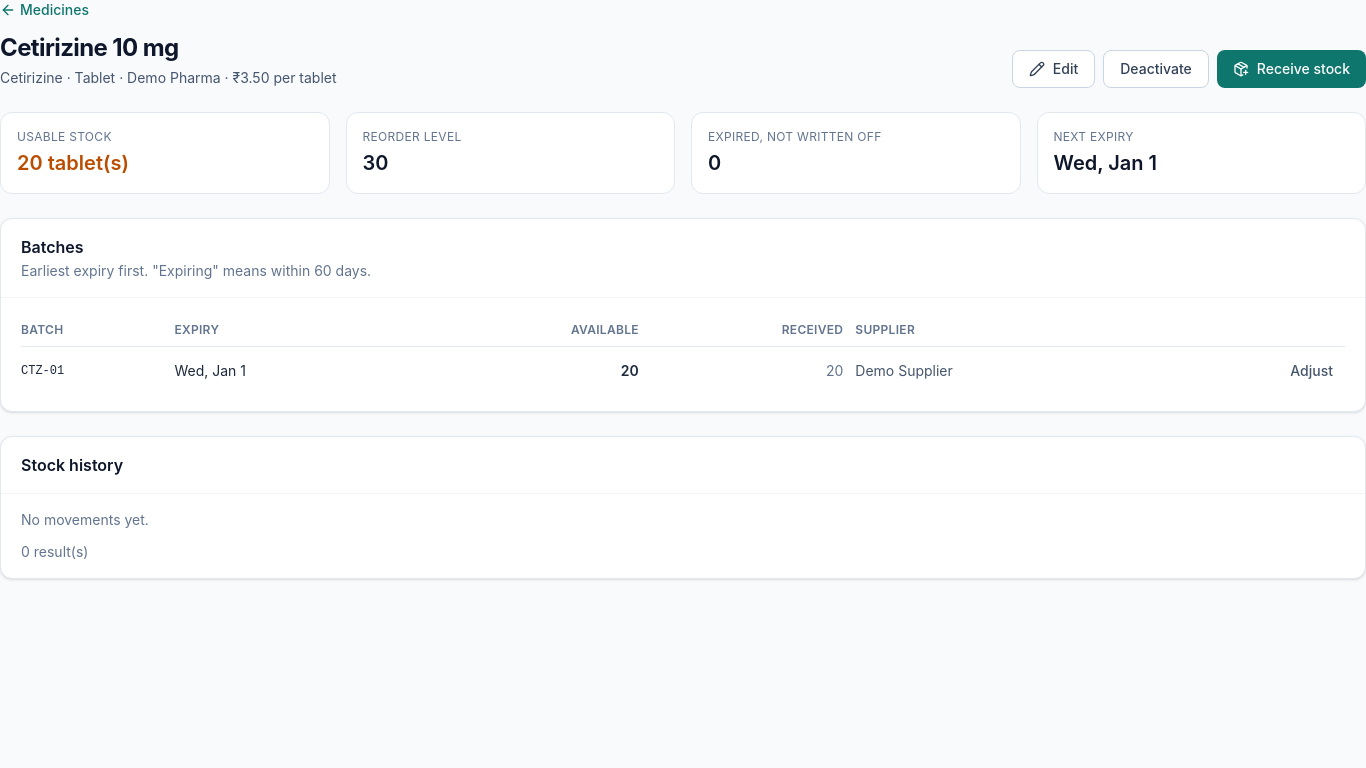
Scenario: MedicineDetailPage › shows the server stock error on the quantity field
The width and height of the screenshot is (1366, 768).
Click the button with aria-label "Adjust batch CTZ-01".
click(1312, 371)  # box [1278, 355, 1345, 387]
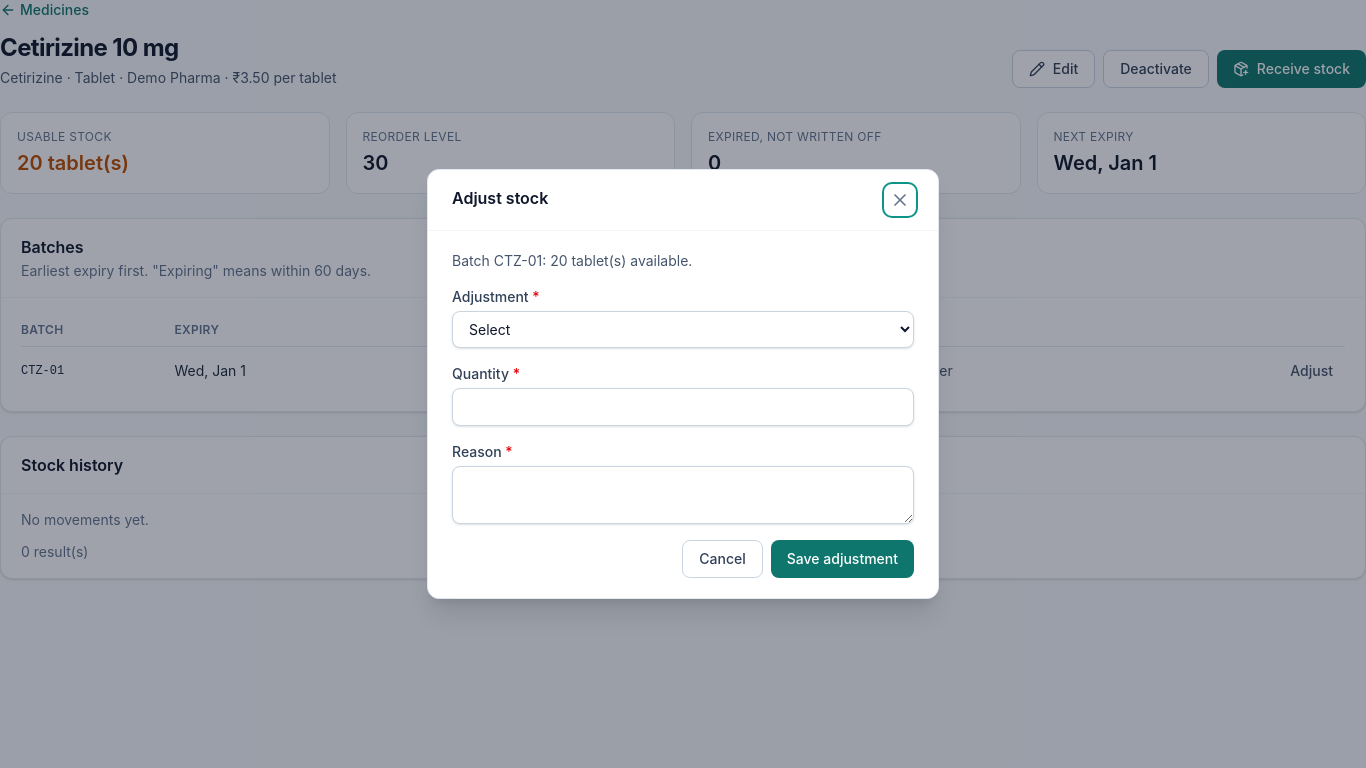
Select "Remove (damaged, lost, count correction)" in the dropdown labelled "Adjustment *" at (683, 330), box [452, 311, 914, 348]
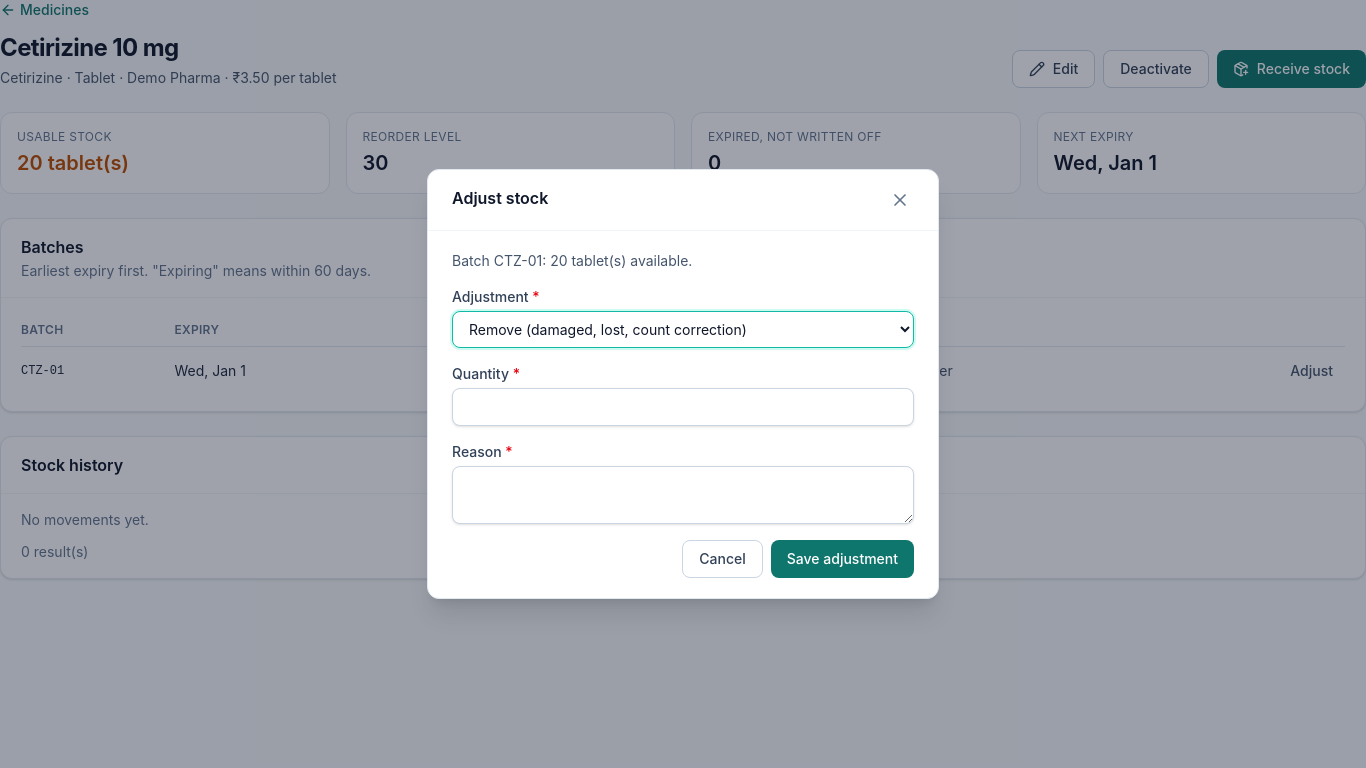
Type "25" into the number field labelled "Quantity *".
click(683, 407); type("25")  # box [452, 388, 914, 426]
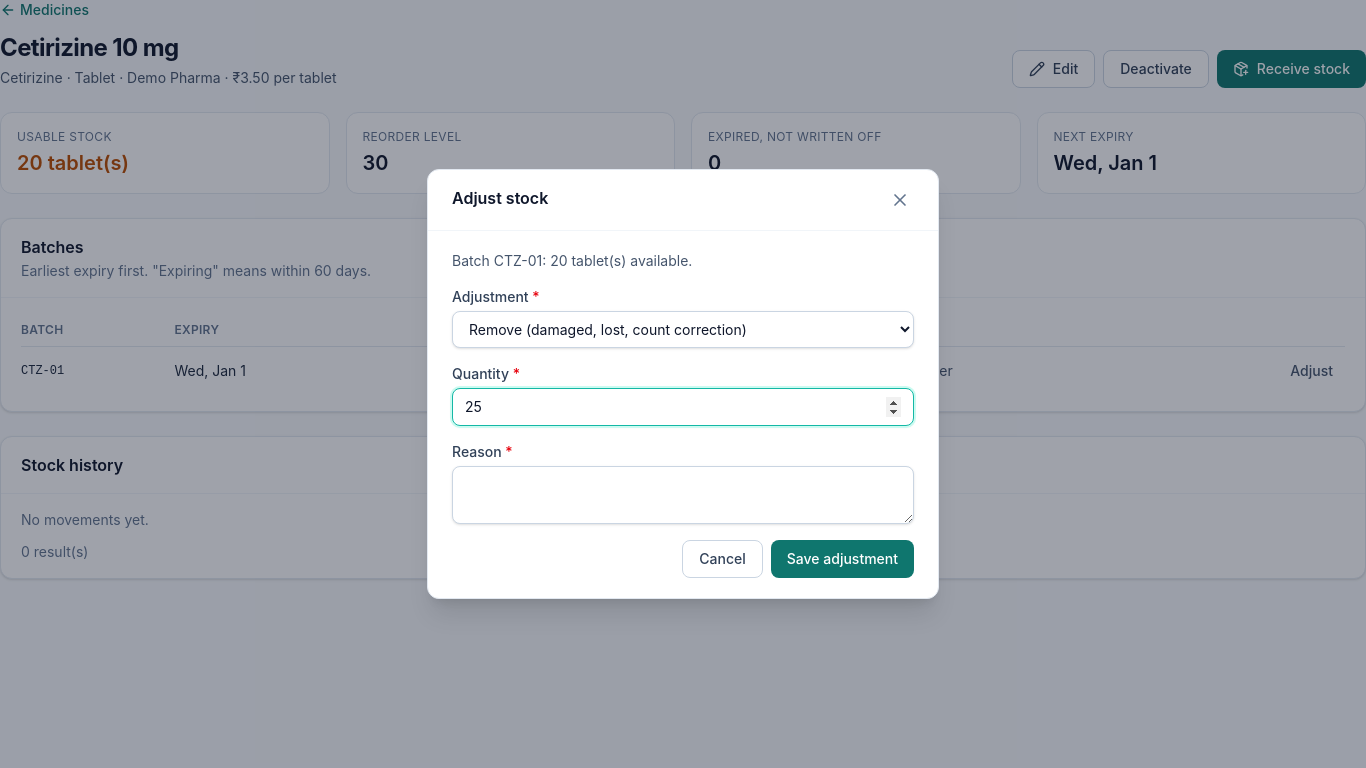
Type "Damaged" into the text box labelled "Reason *".
click(683, 495); type("Damaged")  # box [452, 466, 914, 524]
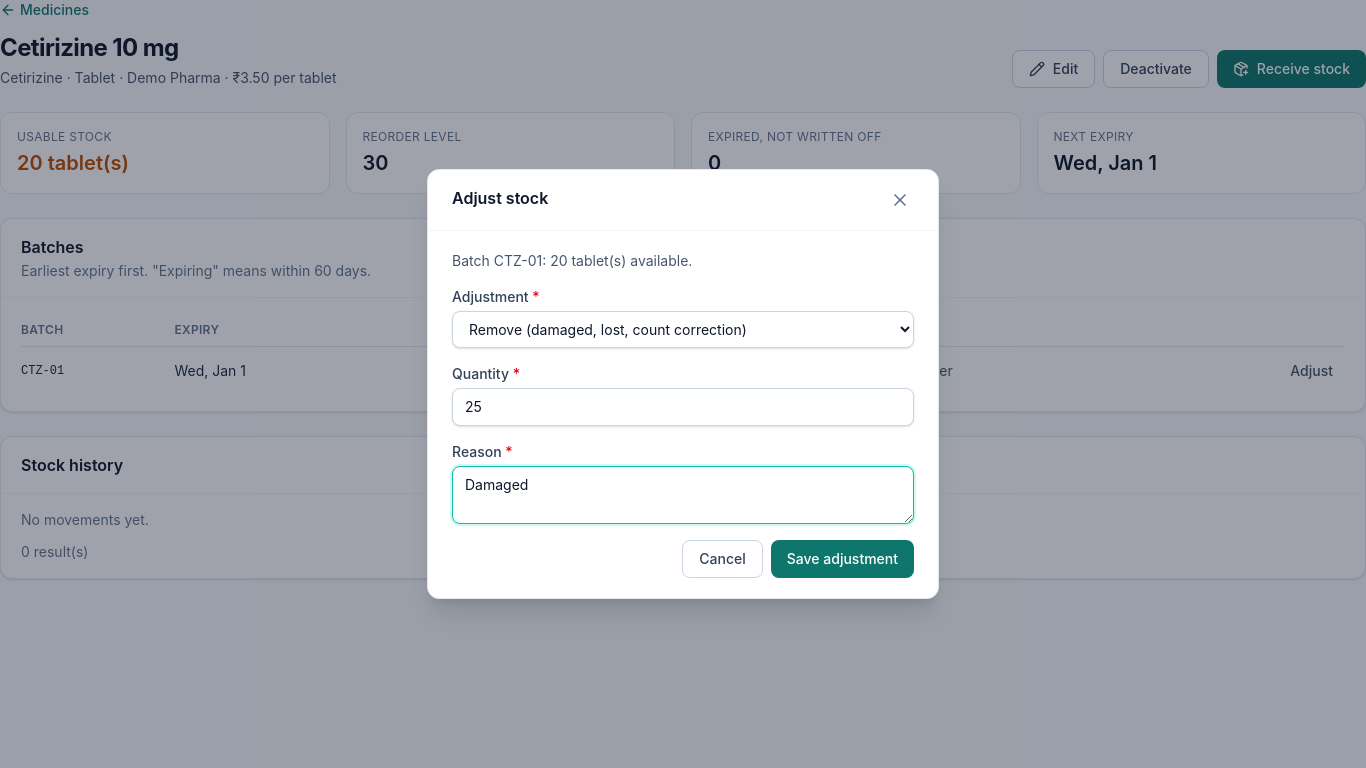
Click the button "Save adjustment".
click(842, 559)  # box [771, 540, 914, 578]
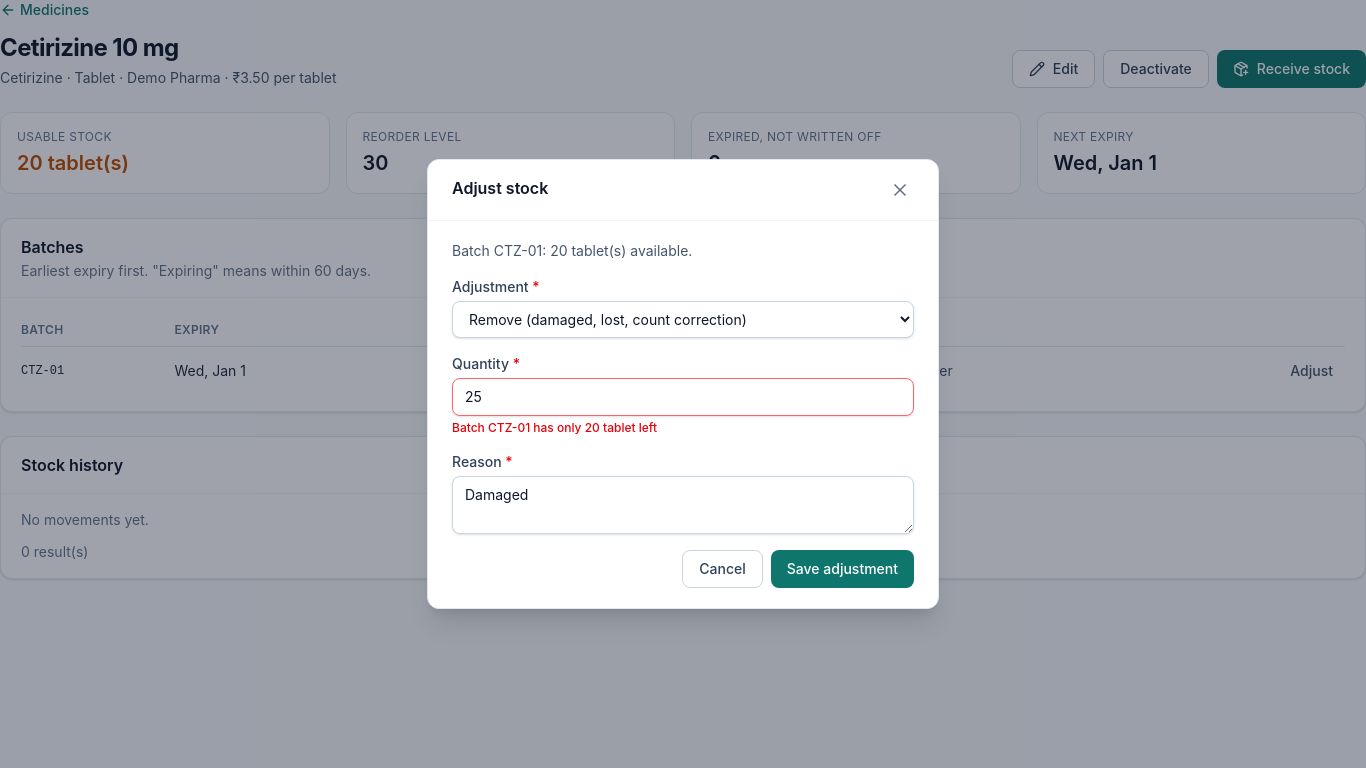
Expected: the text "Batch CTZ-01 has only 20 tablet left" is shown, [452, 420, 657, 435]
